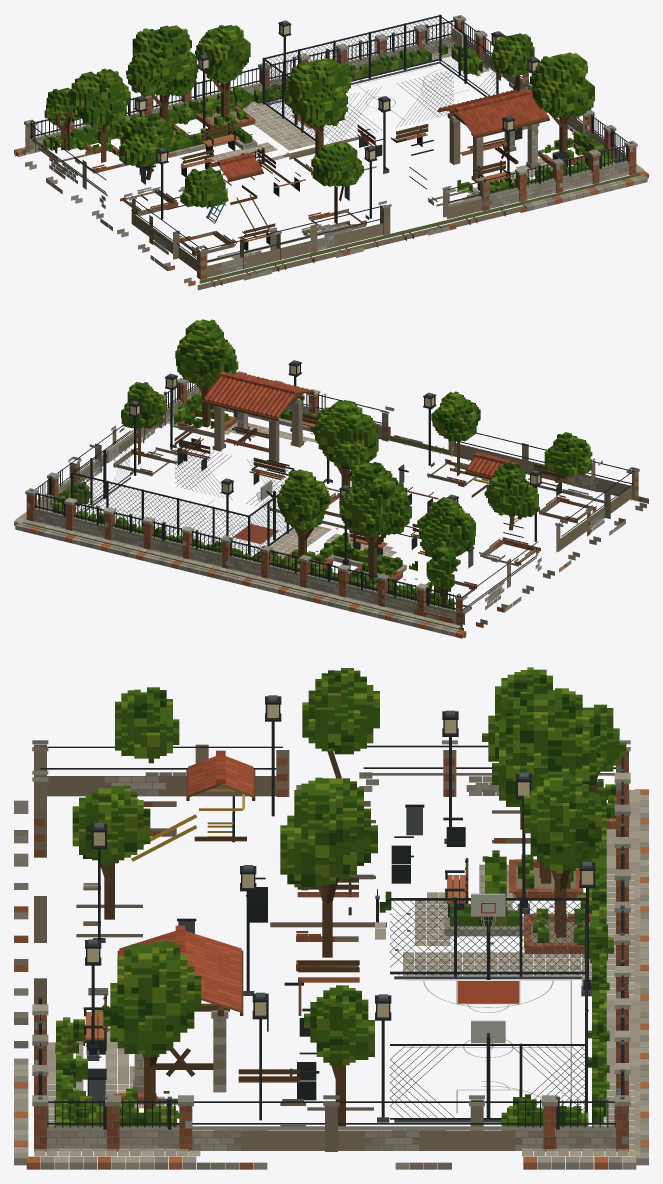
Rendered from SM_StreetFrontage_115.fbx.
3 renders of one model, top to bottom at view 1: azimuth 30°, elevation 25°; view 2: azimuth 150°, elevation 25°; view 3: azimuth 270°, elevation 25°, orthographic. The views are drawn at different scales.
Visible parts, largest first — view 1: SM_StreetFrontage_115; view 2: SM_StreetFrontage_115; view 3: SM_StreetFrontage_115.
Boxes of the visible parts, x1=… form: SM_StreetFrontage_115: x1=14, y1=14, x2=648, y2=290; SM_StreetFrontage_115: x1=14, y1=319, x2=648, y2=638; SM_StreetFrontage_115: x1=14, y1=667, x2=648, y2=1169.
Bounding box in the file's own units: 80 × 56.85 × 19.9.
